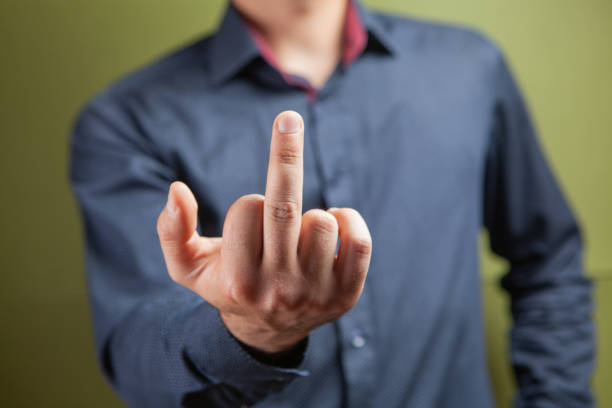insulting_gesture: (159, 110, 374, 344)
